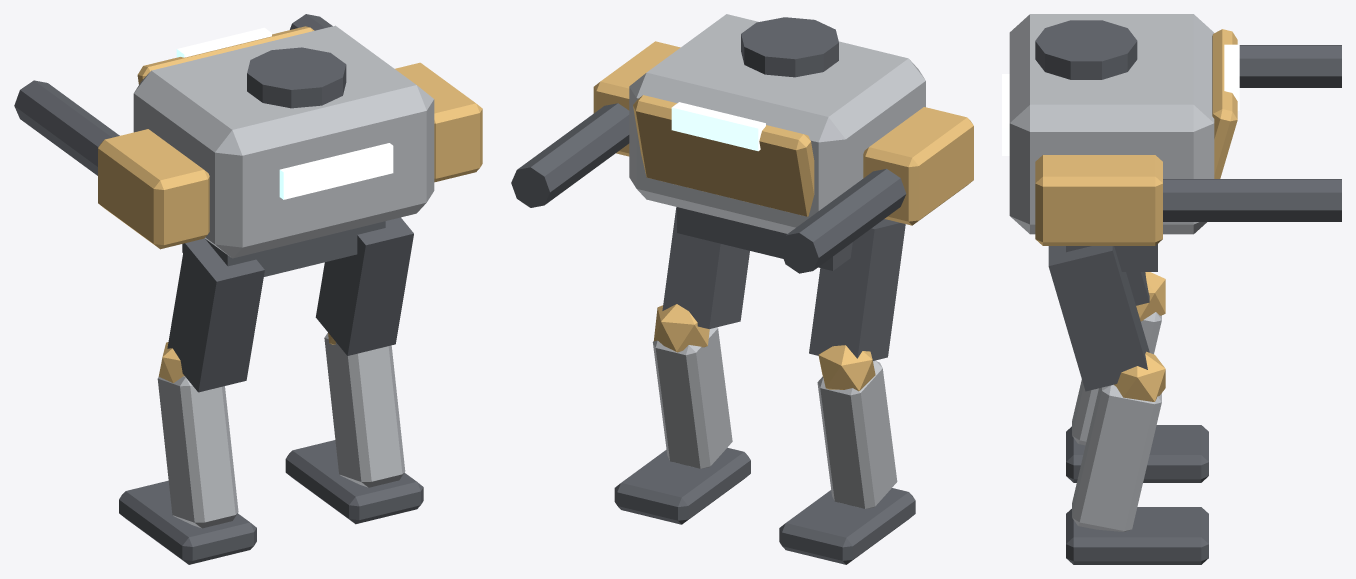
File: assault_walker-DXbgxeIX.glb
3 renders of one model, left to right at view 1: azimuth 30°, elevation 25°; view 2: azimuth 150°, elevation 25°; view 3: azimuth 270°, elevation 25°, orthographic. The views are drawn at different scales.
Parts seen in each view (by area): view 1: foot; view 2: foot; view 3: foot.
Part boxes in pixels (x1,y1,x2,y2): foot: (14,14,482,564); foot: (511,14,973,564); foot: (1002,14,1341,564).
Size of the model in its own units: 0.8168 by 1.1 by 0.7243.
